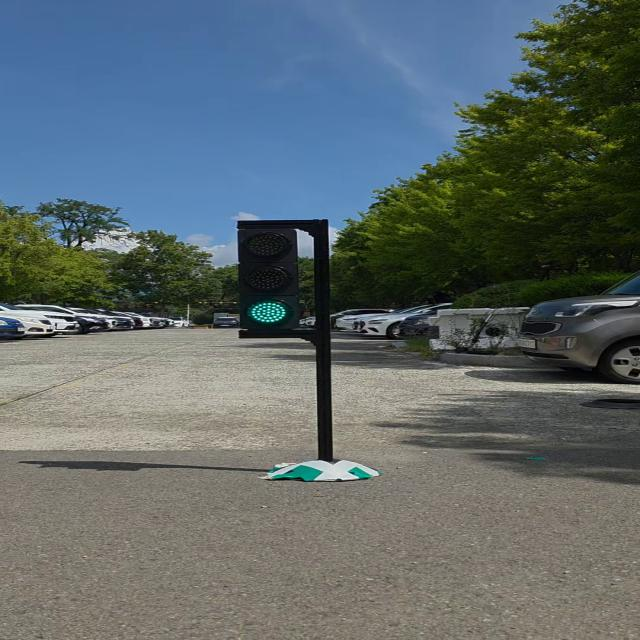green: (237, 221, 301, 340)
